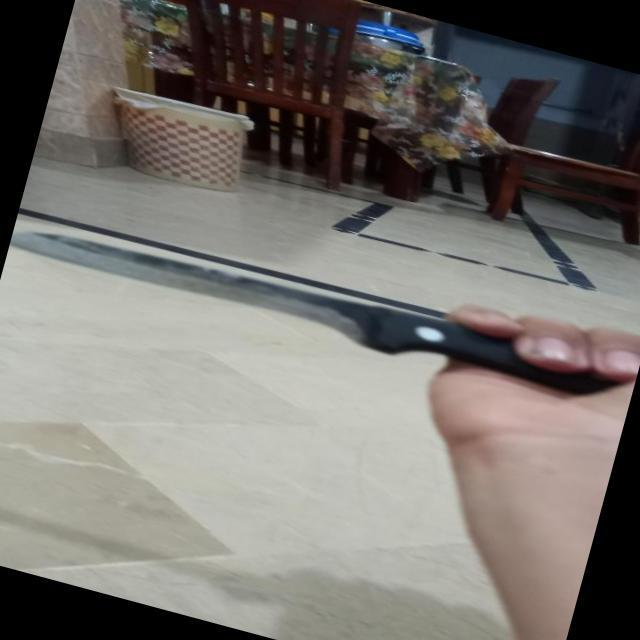Knife: (6, 198, 640, 424)
